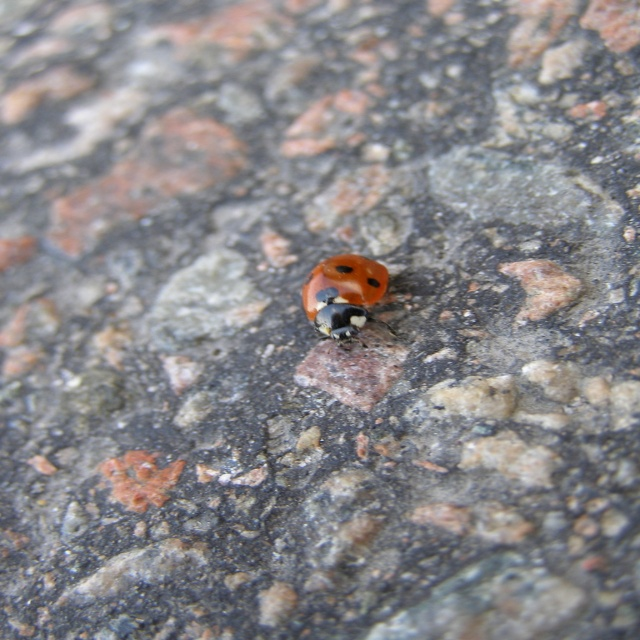Ladybug: (302, 254, 399, 351)
